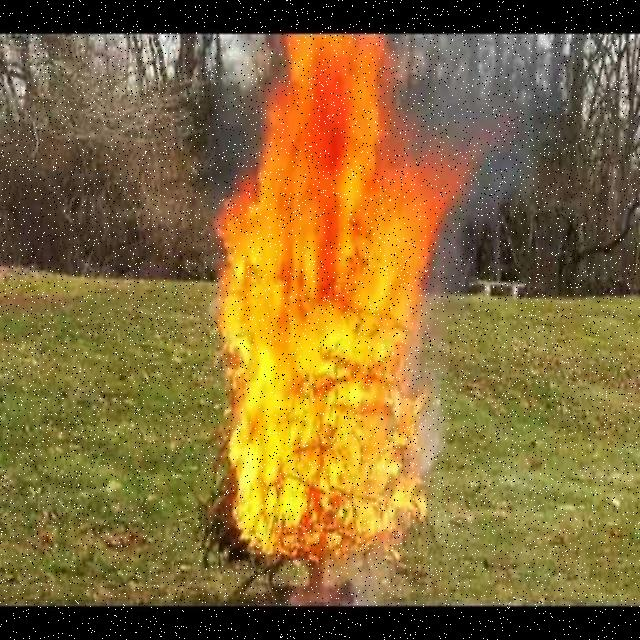fire: (224, 36, 396, 550)
